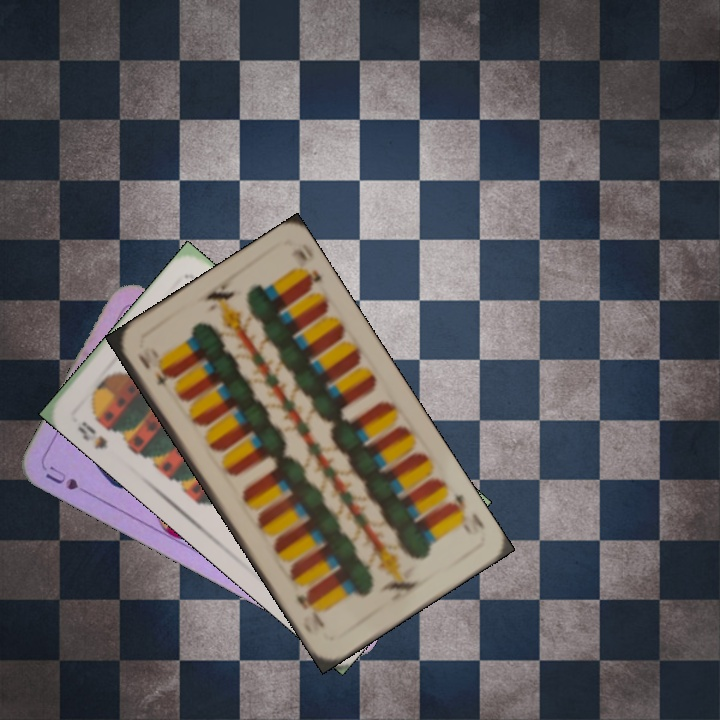E10: (443, 489, 488, 534), (132, 349, 174, 396)
S8: (73, 417, 110, 452)
SU: (41, 461, 97, 500)
